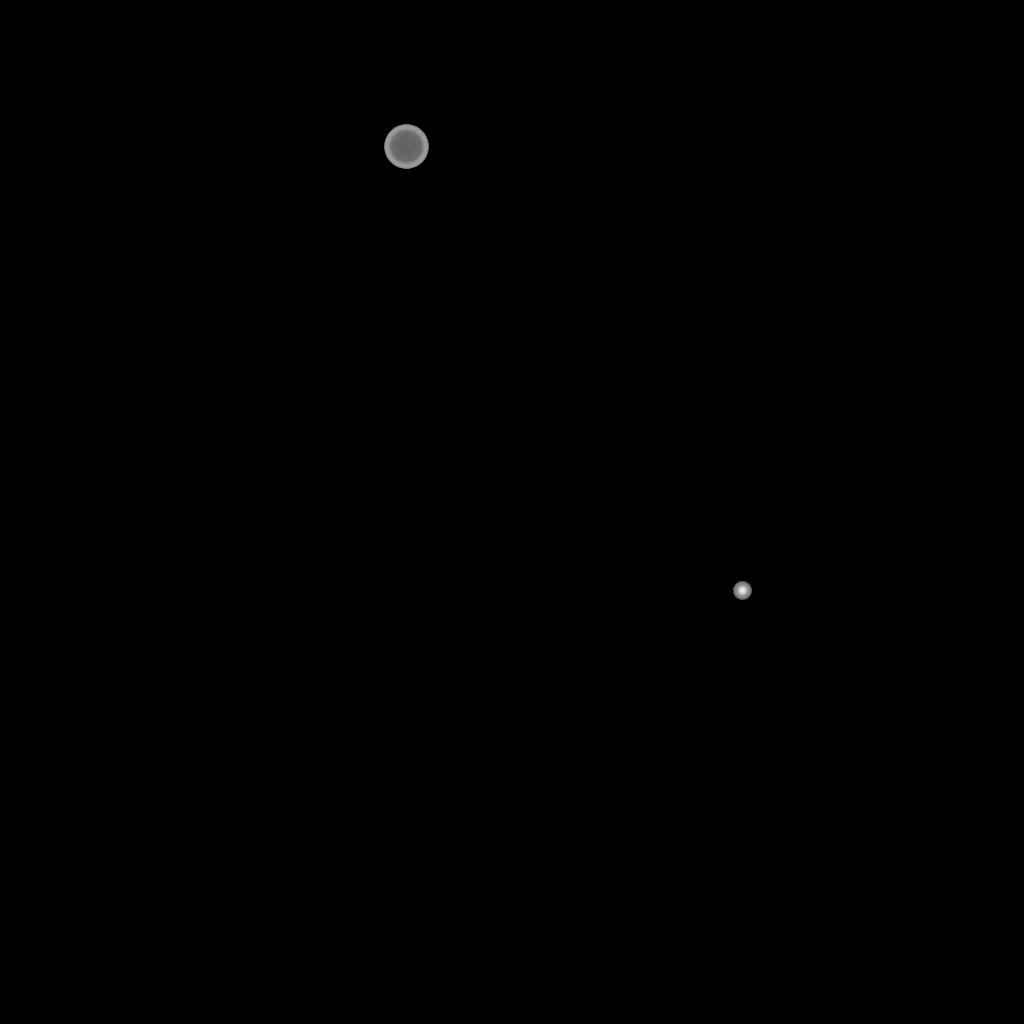depth:-20: (733, 582, 751, 600)
depth:-70: (384, 125, 428, 169)
